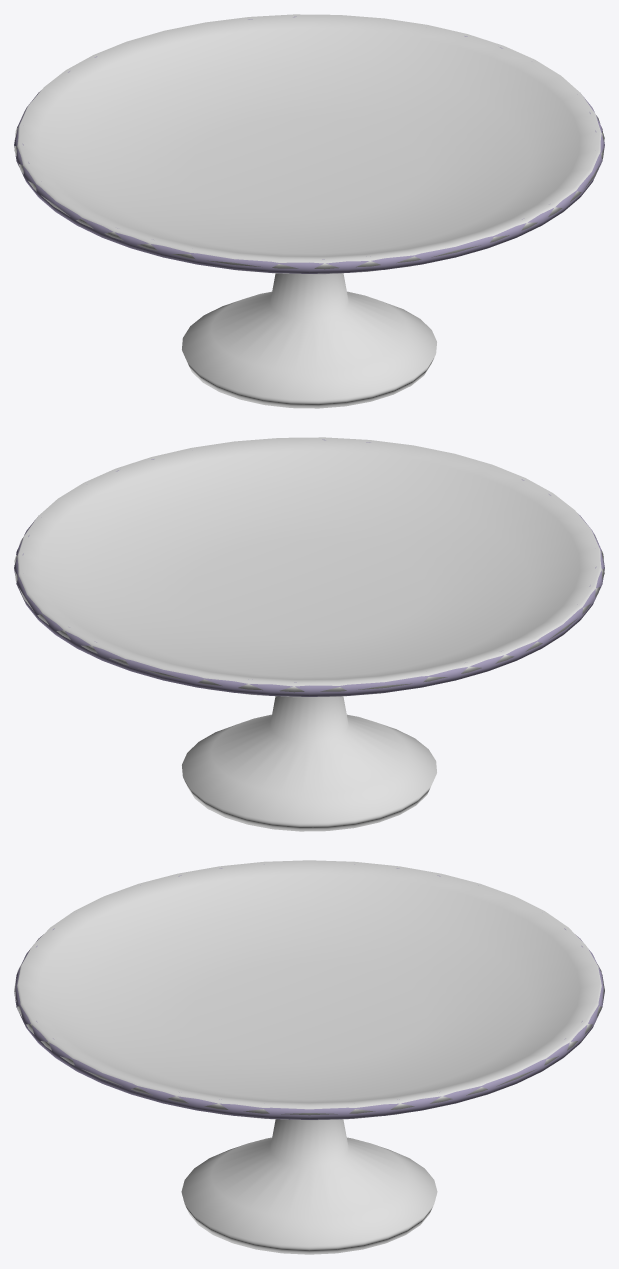
The model's file is CookiePlate.glb.
3 renders of one model, top to bottom at view 1: azimuth 30°, elevation 25°; view 2: azimuth 150°, elevation 25°; view 3: azimuth 270°, elevation 25°, orthographic.
Parts seen in each view (by area): view 1: Plate, Rim; view 2: Plate, Rim; view 3: Plate, Rim.
Boxes of the visible parts, x1,y1,x2,y2 form: Plate: (14,14,604,408); Rim: (14,16,604,273); Plate: (14,437,604,831); Rim: (14,439,604,696); Plate: (14,860,604,1254); Rim: (14,864,604,1119).
Size of the model in its own units: 6 by 2.46 by 6.
